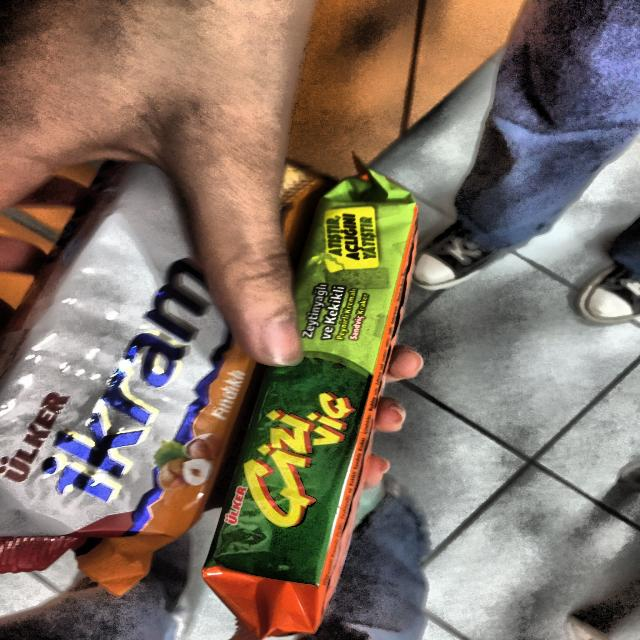Plastic: (3, 118, 314, 594), (206, 152, 441, 640)
